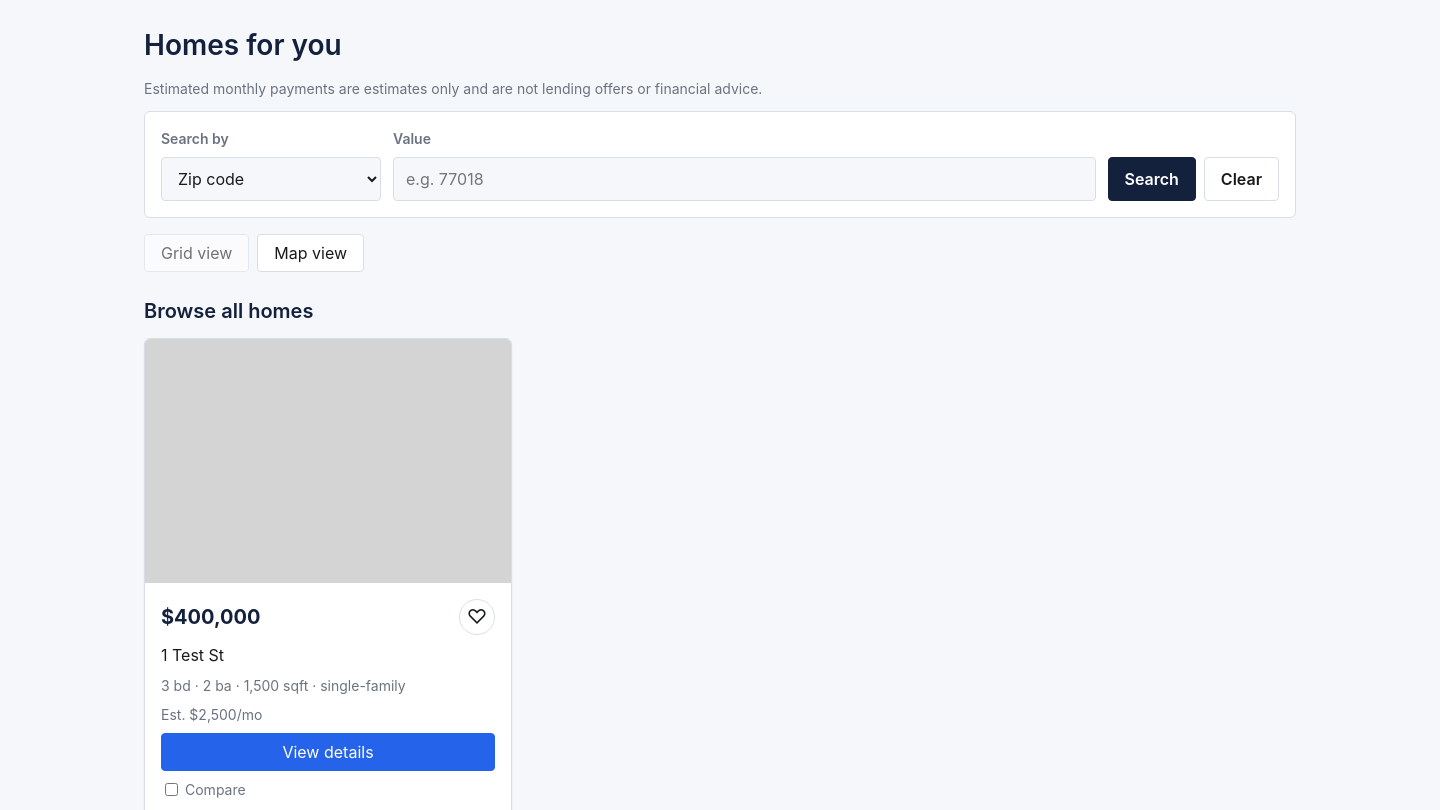
Test case: PropertyFeedPage › shows the grid by default and switches to the map view and back on toggle
This screenshot has width=1440, height=810.
Expected: the text "1 Test St" is shown, x1=161 y1=645 x2=224 y2=665
Click the button "Map view".
click(311, 253)  # box x1=257 y1=234 x2=364 y2=272
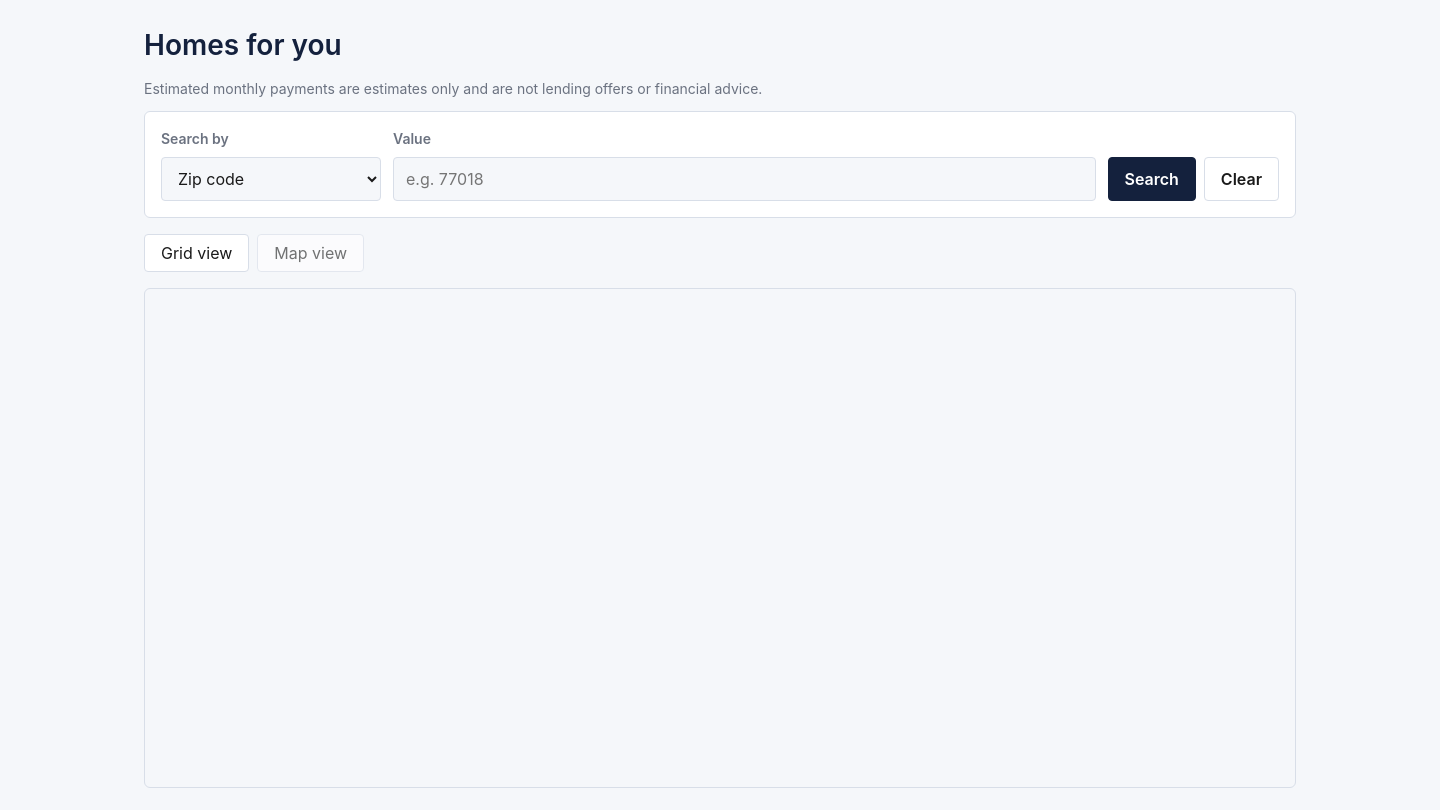
Expected: the element with test id "map-container" is shown, x1=144 y1=288 x2=1296 y2=788
Expected: the text "1 Test St" is gone
Click the button "Grid view".
click(197, 253)  # box x1=144 y1=234 x2=249 y2=272
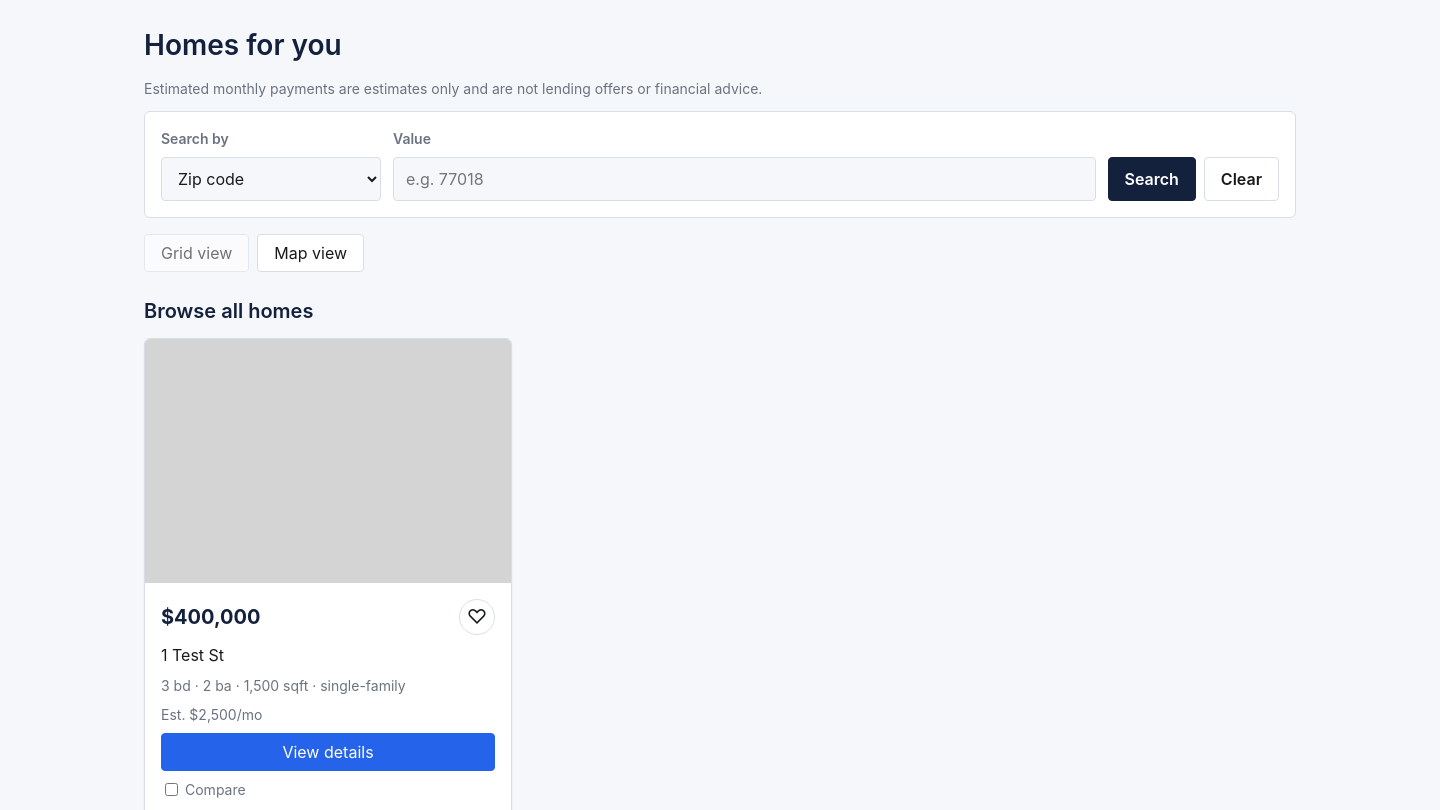
Expected: the text "1 Test St" is shown, x1=161 y1=645 x2=224 y2=665
Expected: the element with test id "map-container" is gone
